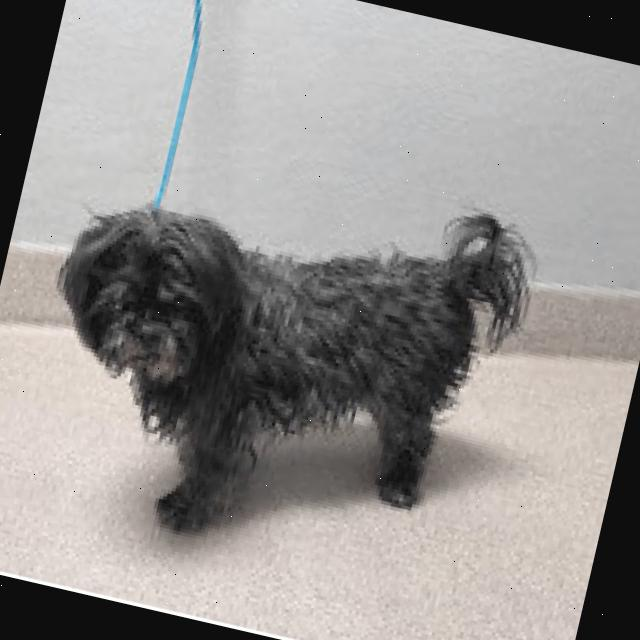shih_tzu_dog: (28, 178, 299, 422)
